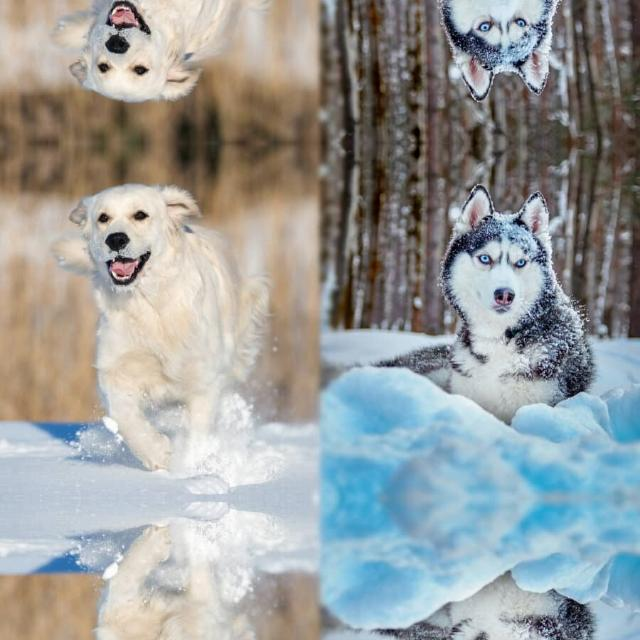dog: (61, 172, 276, 472), (408, 188, 590, 442), (60, 523, 275, 640), (60, 0, 275, 112), (408, 0, 590, 96), (408, 553, 590, 640)
